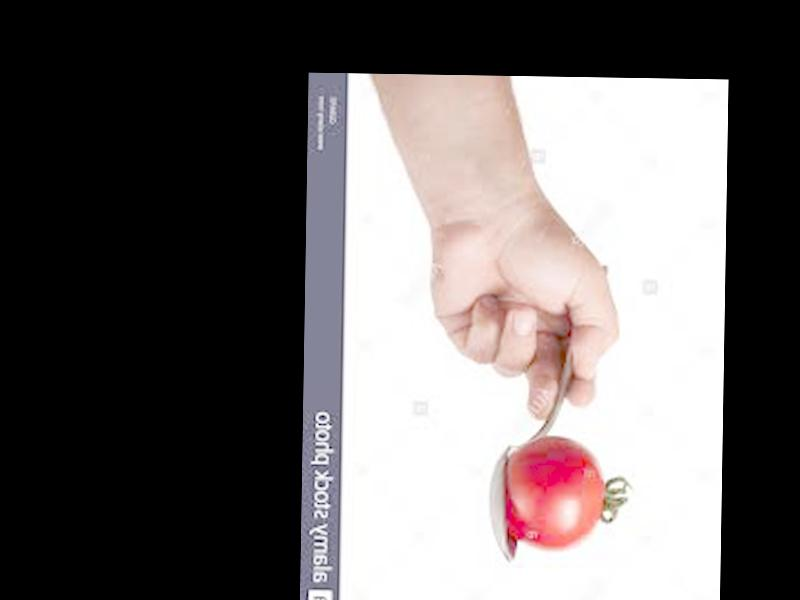Tomato: (506, 434, 606, 549)
